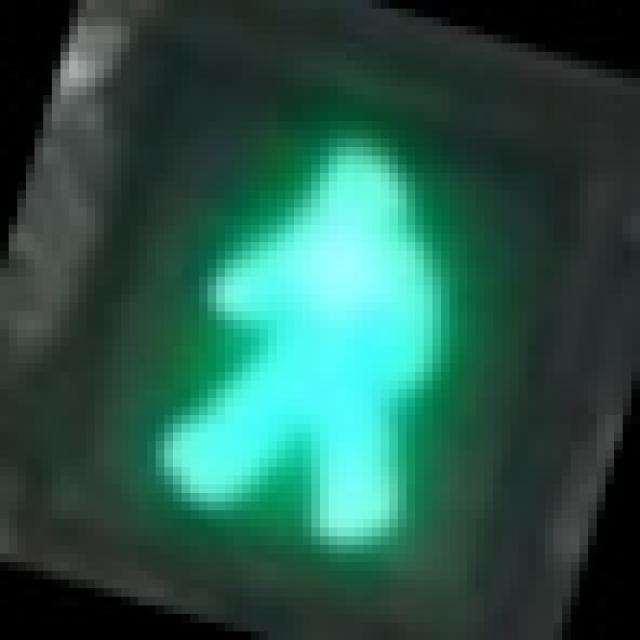geen-crossing: (104, 60, 519, 562)
